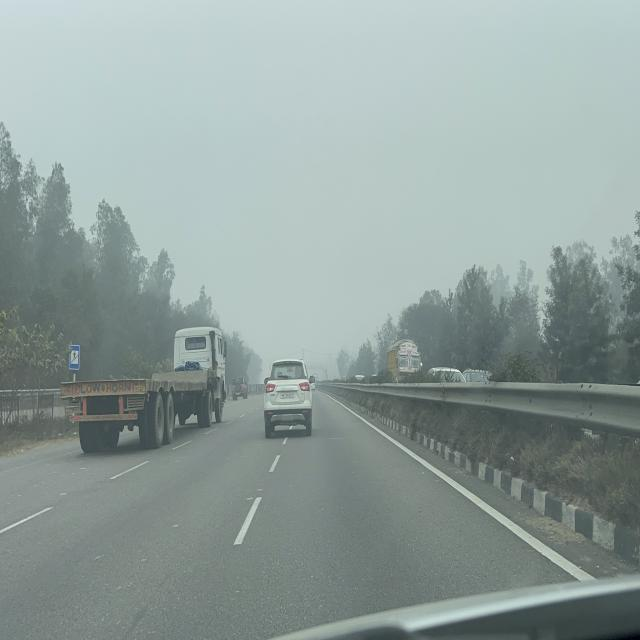INFORMATION: (69, 344, 80, 371)
